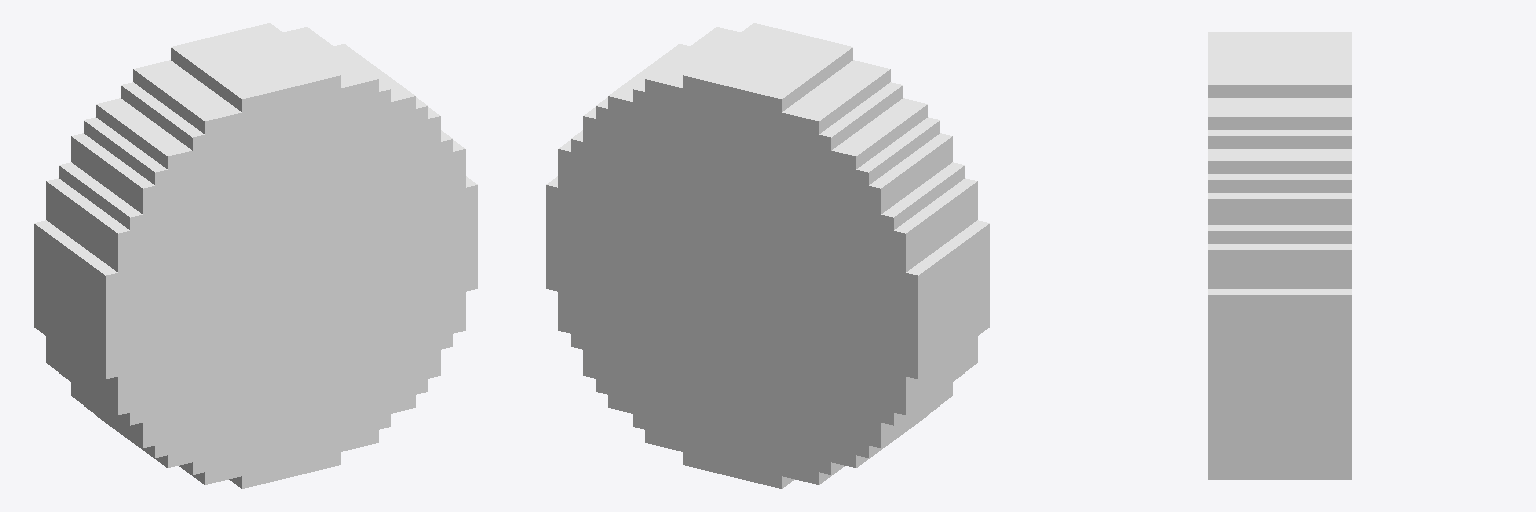
File: coin-6-body.obj
The picture shows the model from 3 angles: view 1: azimuth 30°, elevation 25°; view 2: azimuth 150°, elevation 25°; view 3: azimuth 270°, elevation 25°; orthographic projection.
Visible parts, largest first — view 1: body; view 2: body; view 3: body.
Boxes of the visible parts, x1,y1,x2,y2 form: body: [34, 23, 477, 488]; body: [546, 23, 989, 488]; body: [1208, 32, 1351, 479].
Size of the model in its own units: 3 by 3 by 1.